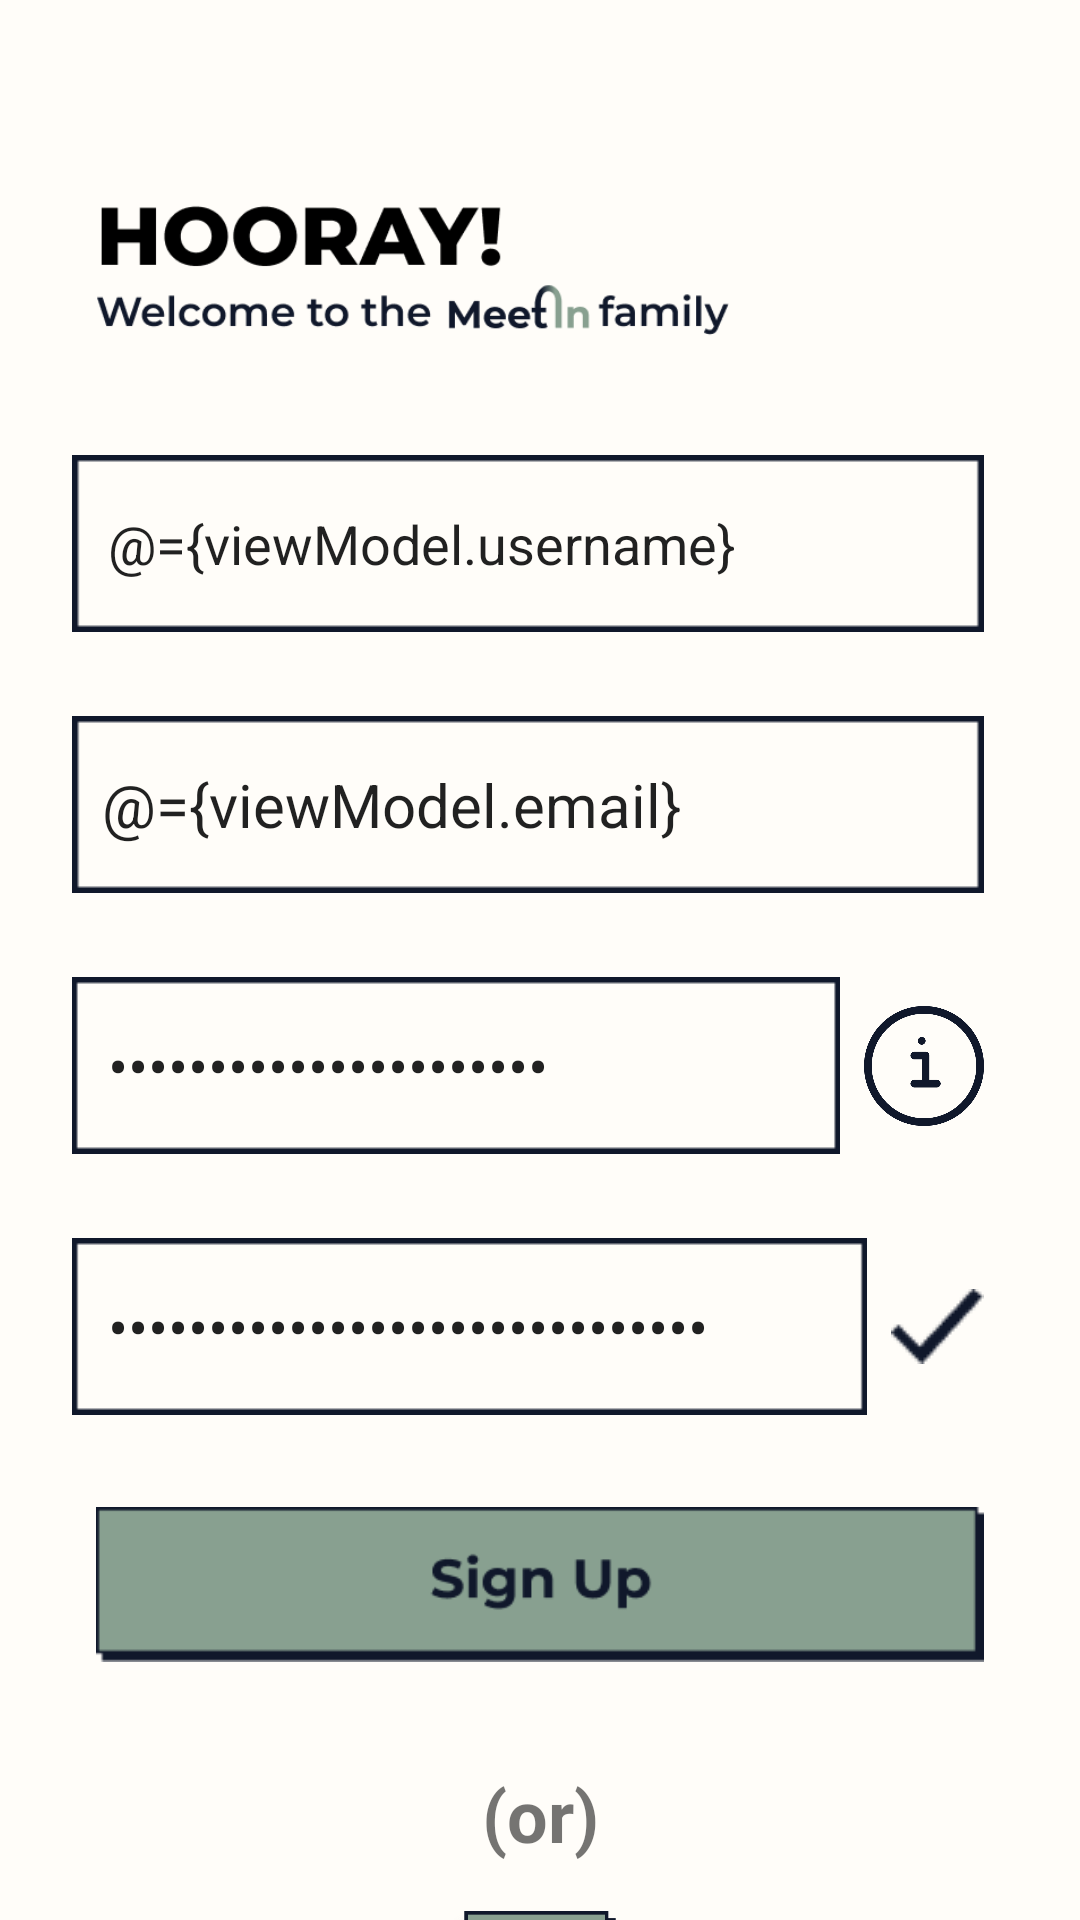

Named icons in this screenshot (1080w x 1920h) and their centers, [x,y]:
information hover: [924,1066]
tickmark: [937,1326]
